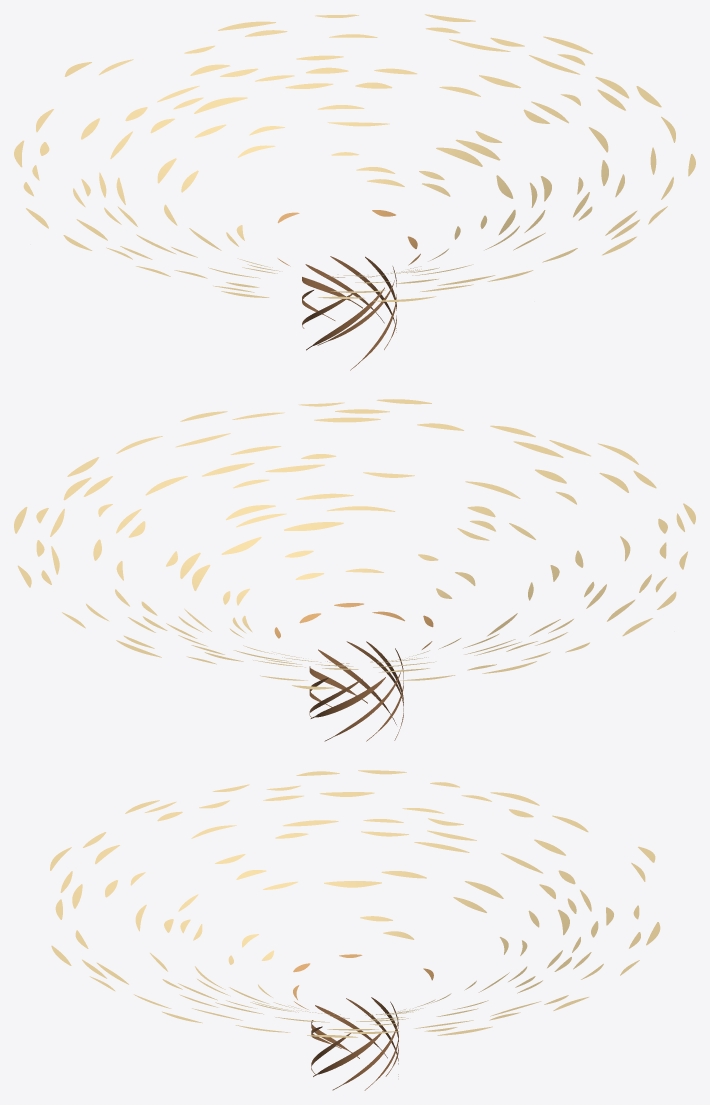
File: SandSwirl.obj
3 views of the same model, one above another, from view 1: azimuth 30°, elevation 25°; view 2: azimuth 150°, elevation 25°; view 3: azimuth 270°, elevation 25° (orthographic). The views are drawn at different scales.
Visible parts, largest first — view 1: Swirl5, Swirl4, Swirl3, Whirl, Swirl2; view 2: Swirl5, Swirl4, Swirl3, Whirl, Swirl2; view 3: Swirl5, Swirl4, Swirl3, Whirl, Swirl2.
Boxes of the visible parts, bbox=[...] form: Swirl5: bbox=[14, 14, 695, 301]; Swirl4: bbox=[73, 55, 624, 283]; Swirl3: bbox=[157, 105, 551, 276]; Whirl: bbox=[302, 256, 396, 370]; Swirl2: bbox=[226, 152, 487, 275]; Swirl5: bbox=[14, 399, 695, 689]; Swirl4: bbox=[93, 446, 630, 672]; Swirl3: bbox=[166, 493, 559, 662]; Whirl: bbox=[309, 641, 403, 741]; Swirl2: bbox=[223, 550, 475, 656]; Swirl5: bbox=[50, 770, 660, 1037]; Swirl4: bbox=[105, 808, 613, 1025]; Swirl3: bbox=[164, 870, 539, 1015]; Whirl: bbox=[311, 997, 398, 1090]; Swirl2: bbox=[228, 916, 476, 1015].
Bounding box in the file's own units: 69.04 × 20.07 × 69.04.
